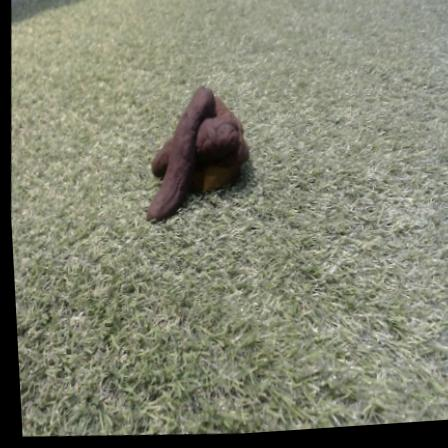dog-poop: (129, 75, 261, 224)
